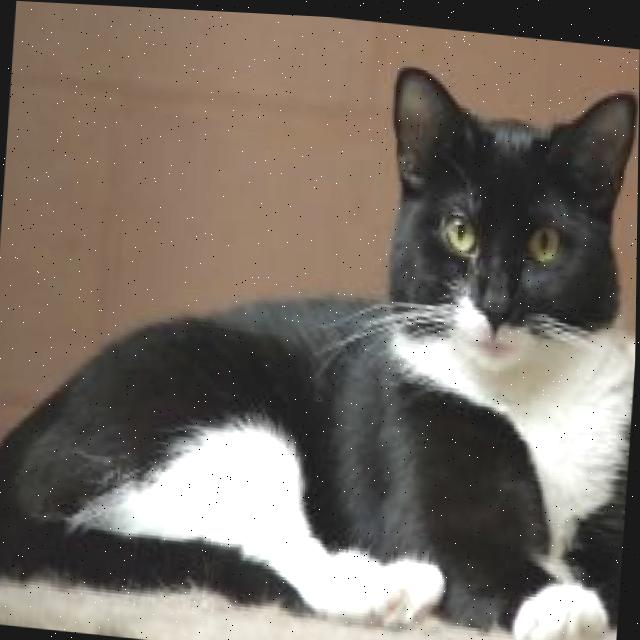Tuxedo: (0, 17, 640, 640)
